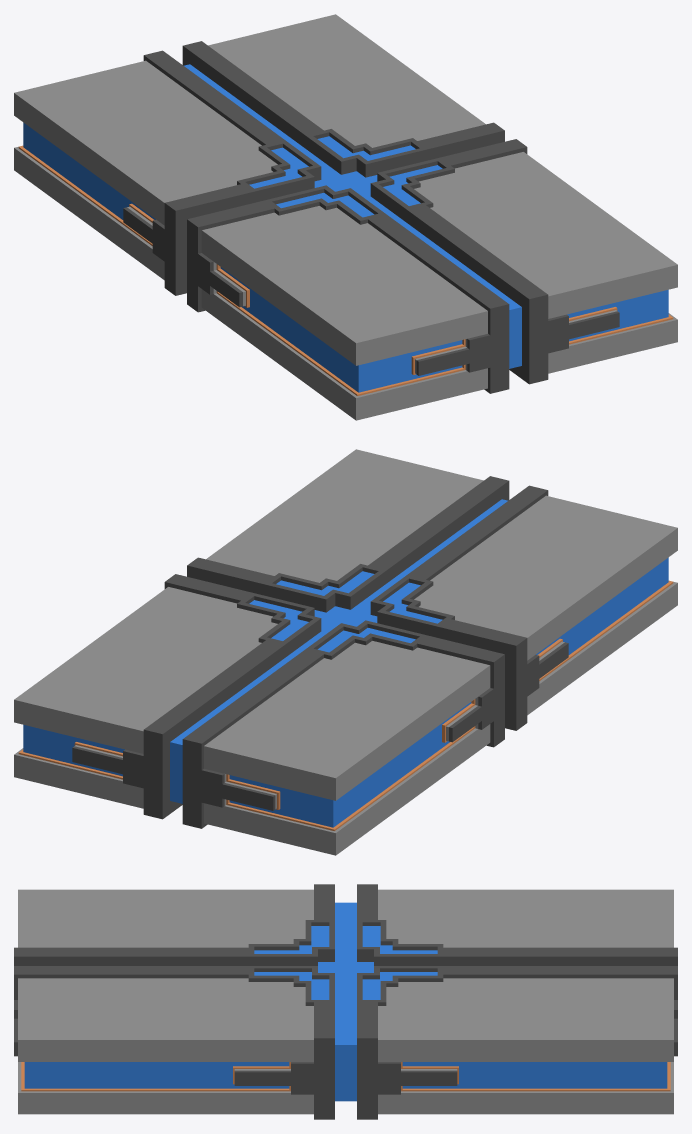
File: SM_FMovingPlatform_04.FBX
The picture shows the model from 3 angles, top to bottom: view 1: azimuth 30°, elevation 25°; view 2: azimuth 150°, elevation 25°; view 3: azimuth 270°, elevation 25°; orthographic projection. The views are drawn at different scales.
Visible parts, largest first — view 1: SM_MovingPlatform_013; view 2: SM_MovingPlatform_013; view 3: SM_MovingPlatform_013.
Part boxes in pixels (left/top/right/bottom): SM_MovingPlatform_013: left=14, top=14, right=677, bottom=420; SM_MovingPlatform_013: left=14, top=449, right=677, bottom=855; SM_MovingPlatform_013: left=14, top=884, right=677, bottom=1119.
Size of the model in its own units: 222 by 54.87 by 405.
